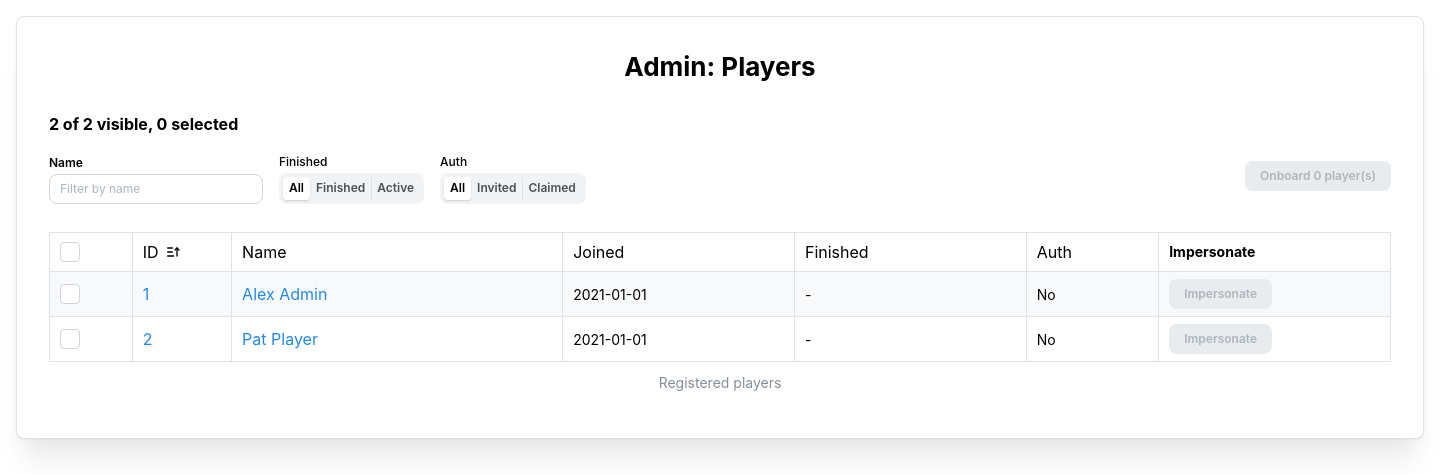
Test: AdminPlayerList › select all › checks all player rows when select-all is clicked
This screenshot has width=1440, height=475.
Step 1. Click the checkbox named "Select all players" → (70, 252), box [60,242,80,262]
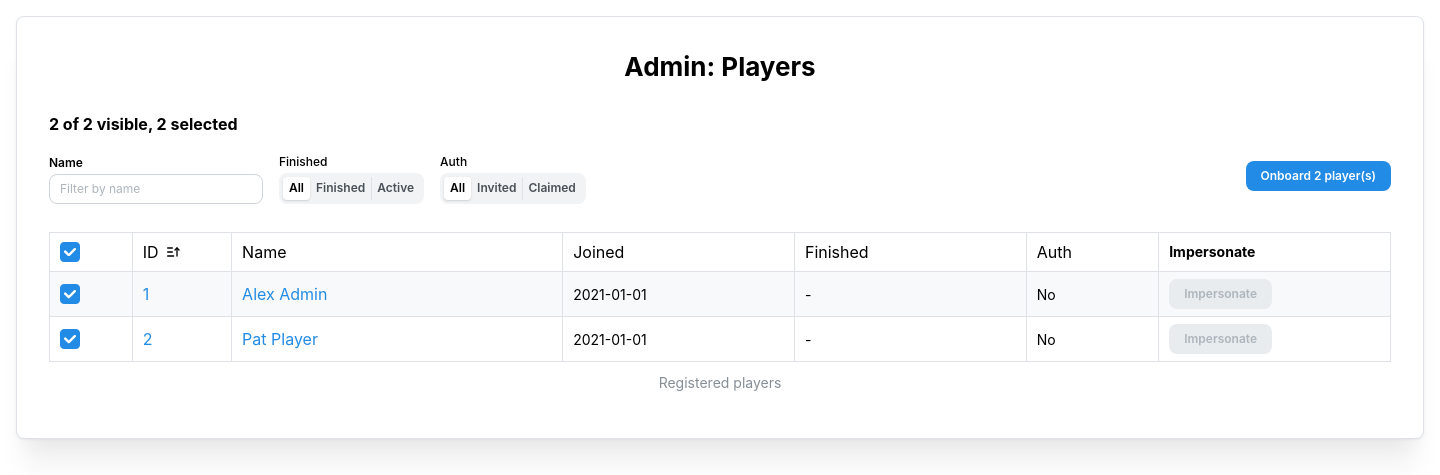
Expected: the checkbox named "Select Alex Admin" is checked, [60,284,80,304]
Expected: the checkbox named "Select Pat Player" is checked, [60,330,80,350]
